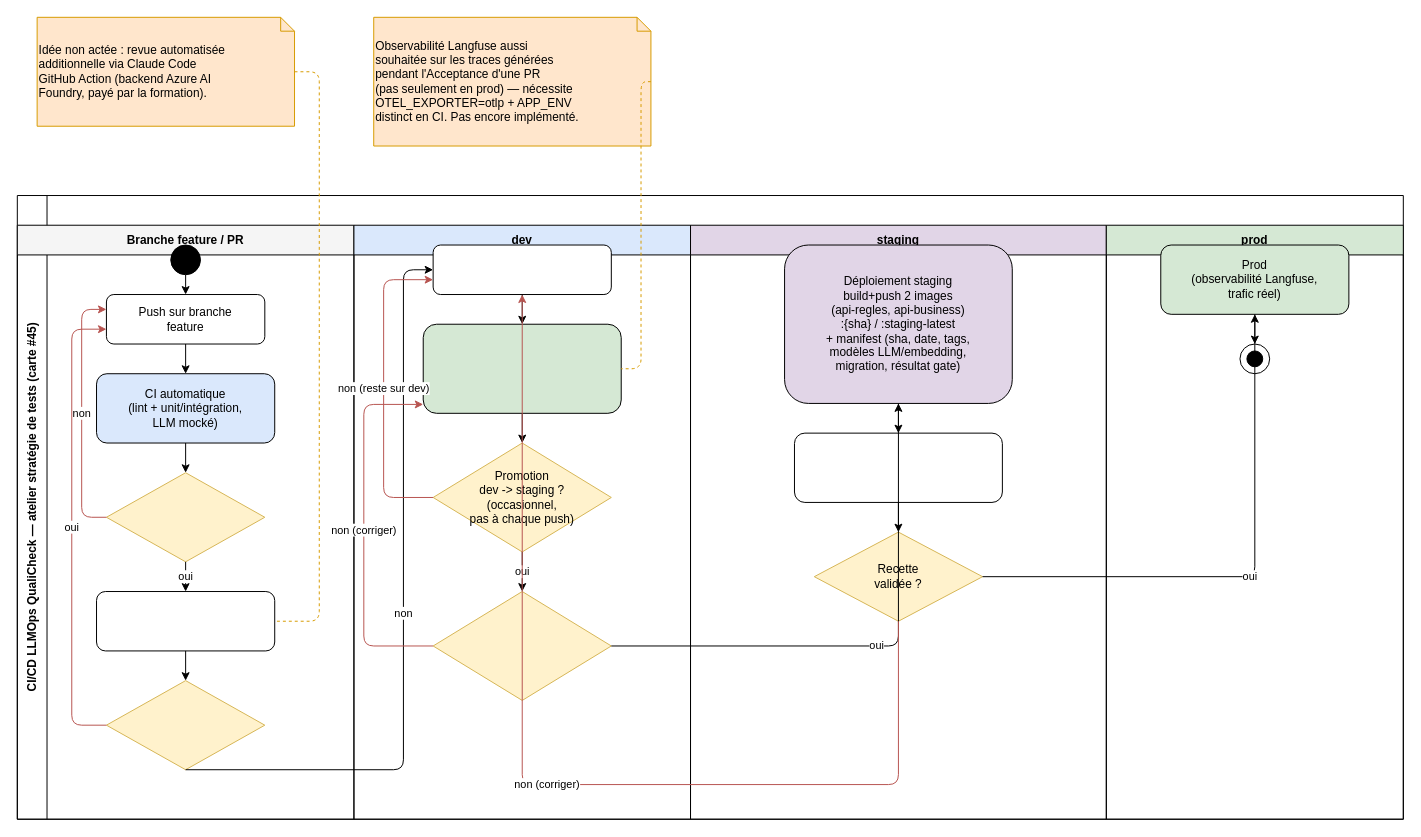
Image size: 1421x837. Some labels were removed from this diagram. Each missing label, with the box of its shape:
Acceptance (Gherkin réel, appels LLM réels) — tests/acceptance/: (422, 323, 621, 413)
Changements demandés ?: (105, 680, 265, 770)
CI verte ?: (105, 472, 265, 562)
Gate à seuil (ex. recall@5 ≥ plancher mesuré sur preuve): (432, 591, 611, 700)
Merge sur dev: (432, 244, 611, 295)
Recette / UAT (vérification humaine, ex. Élie Sloïm): (793, 432, 1002, 502)
Revue de code (PR) (relecture du diff, auto-revue seule): (96, 591, 275, 651)
